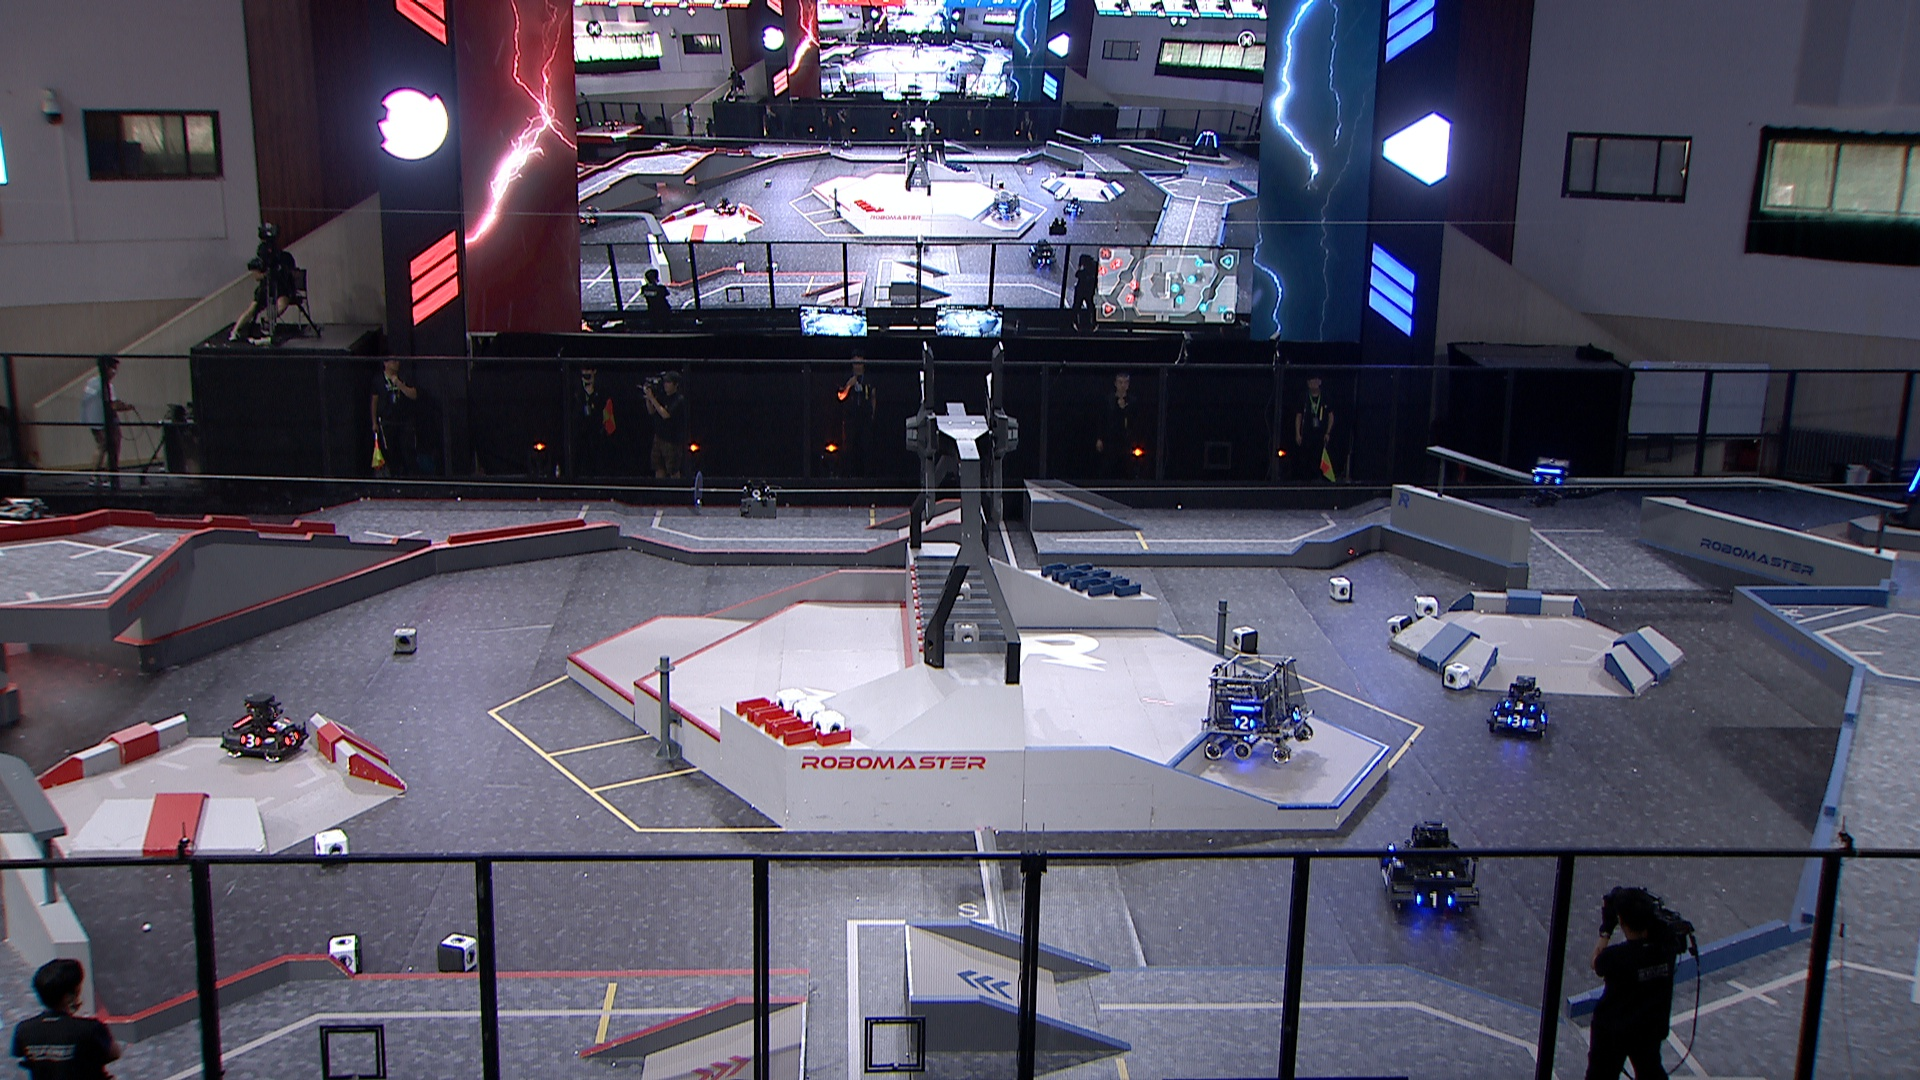armor: (1414, 889, 1455, 910), (1234, 713, 1259, 733), (1505, 699, 1536, 713), (264, 717, 291, 733), (237, 733, 264, 749), (1532, 473, 1563, 487), (1381, 858, 1396, 884), (1907, 469, 1920, 496), (1509, 713, 1531, 728), (284, 731, 301, 746), (1292, 707, 1305, 723)
base: (1884, 454, 1920, 537)
car: (1204, 651, 1315, 766), (1379, 823, 1482, 918), (220, 690, 313, 764), (1490, 674, 1555, 742)
ignore: (992, 190, 1025, 223), (1189, 131, 1222, 160), (1026, 237, 1058, 266), (579, 204, 603, 228), (1064, 196, 1087, 216), (716, 199, 740, 216), (1091, 133, 1102, 148)
watcher: (1528, 458, 1575, 509)
